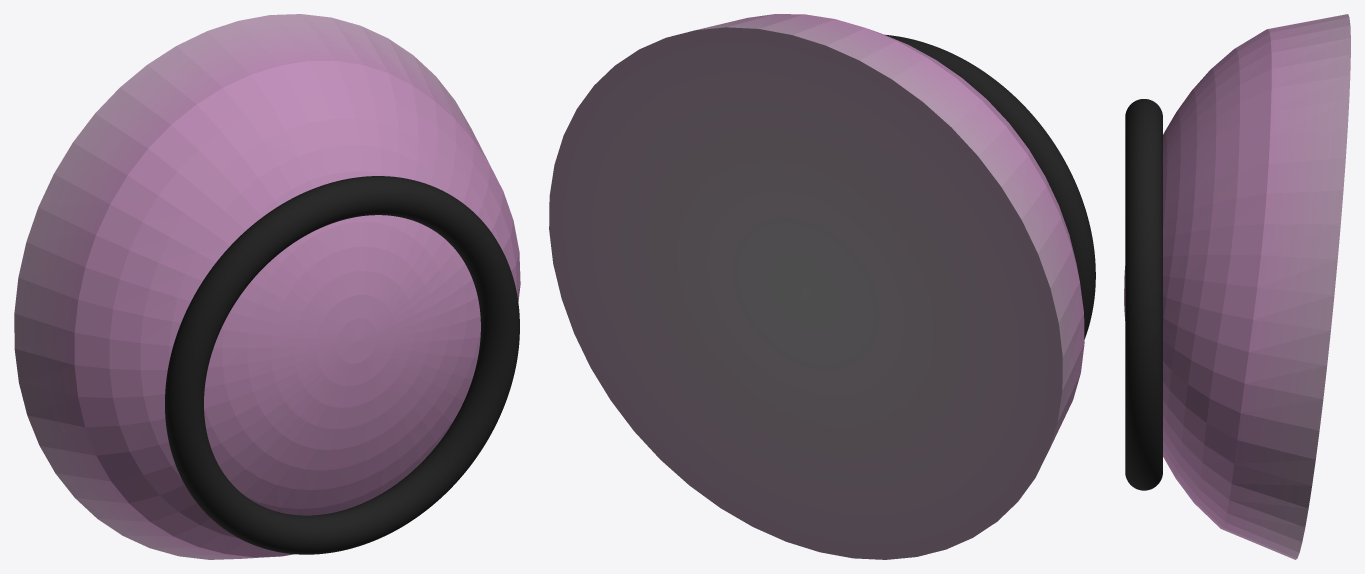
File: FINAL012_with_Ring_m.glb
3 views of the same model, side by side, from view 1: azimuth 30°, elevation 25°; view 2: azimuth 150°, elevation 25°; view 3: azimuth 270°, elevation 25° (orthographic). The views are drawn at different scales.
Parts seen in each view (by area): view 1: Polyp_FINAL012, Ring_CAD; view 2: Polyp_FINAL012, Ring_CAD; view 3: Polyp_FINAL012, Ring_CAD.
Boxes of the visible parts, <box> form: Polyp_FINAL012: <box>14,14,520,559</box>; Ring_CAD: <box>165,176,519,554</box>; Polyp_FINAL012: <box>549,14,1084,559</box>; Ring_CAD: <box>884,34,1095,339</box>; Polyp_FINAL012: <box>1124,14,1350,559</box>; Ring_CAD: <box>1125,99,1162,490</box>.
Bounding box in the file's own units: 0.0171 × 0.0173 × 0.00718.
